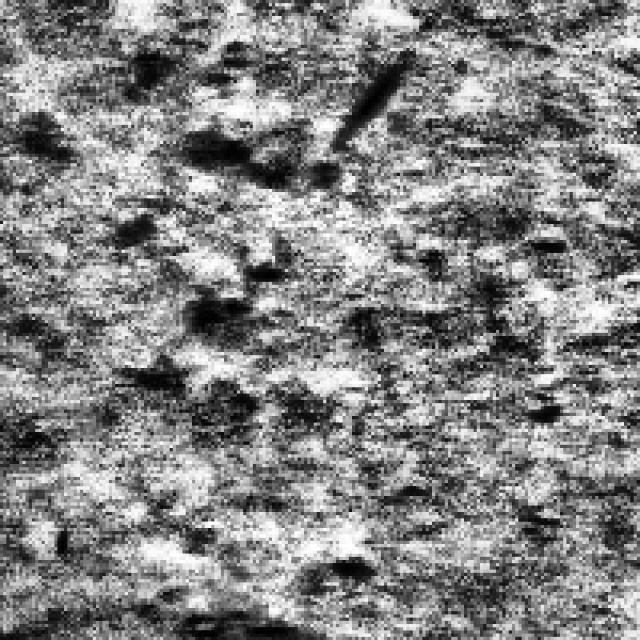Crazing: (99, 39, 259, 314), (115, 233, 298, 420), (144, 522, 378, 634), (173, 64, 336, 192)
